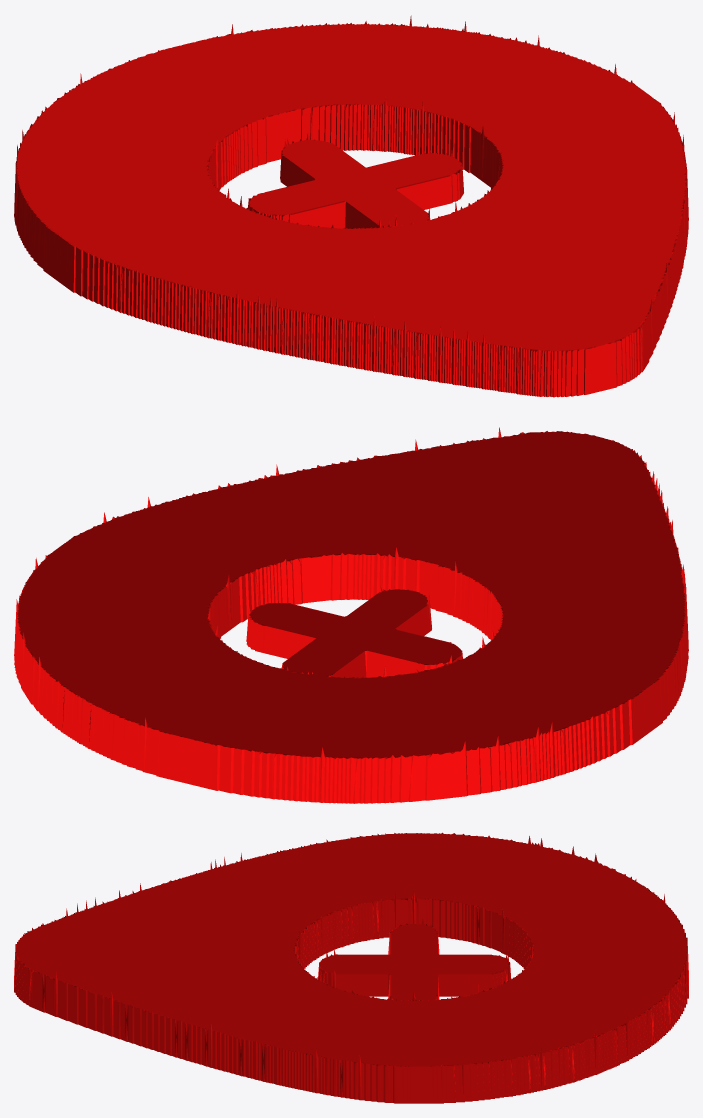
File: mapPin3D.glb
The picture shows the model from 3 angles, top to bottom: view 1: azimuth 30°, elevation 25°; view 2: azimuth 150°, elevation 25°; view 3: azimuth 270°, elevation 25°; orthographic projection. The views are drawn at different scales.
Visible parts, largest first — view 1: Node1; view 2: Node1; view 3: Node1.
Part boxes in pixels (left/top/right/bottom): Node1: left=14, top=15, right=688, bottom=397; Node1: left=14, top=427, right=688, bottom=803; Node1: left=14, top=832, right=688, bottom=1103.
Size of the model in its own units: 72.07 by 6.47 by 87.7.
